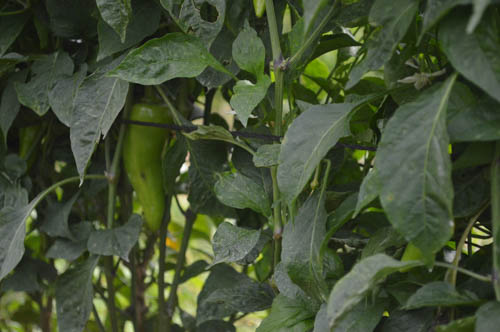ChiliPepper: (121, 103, 170, 227)
